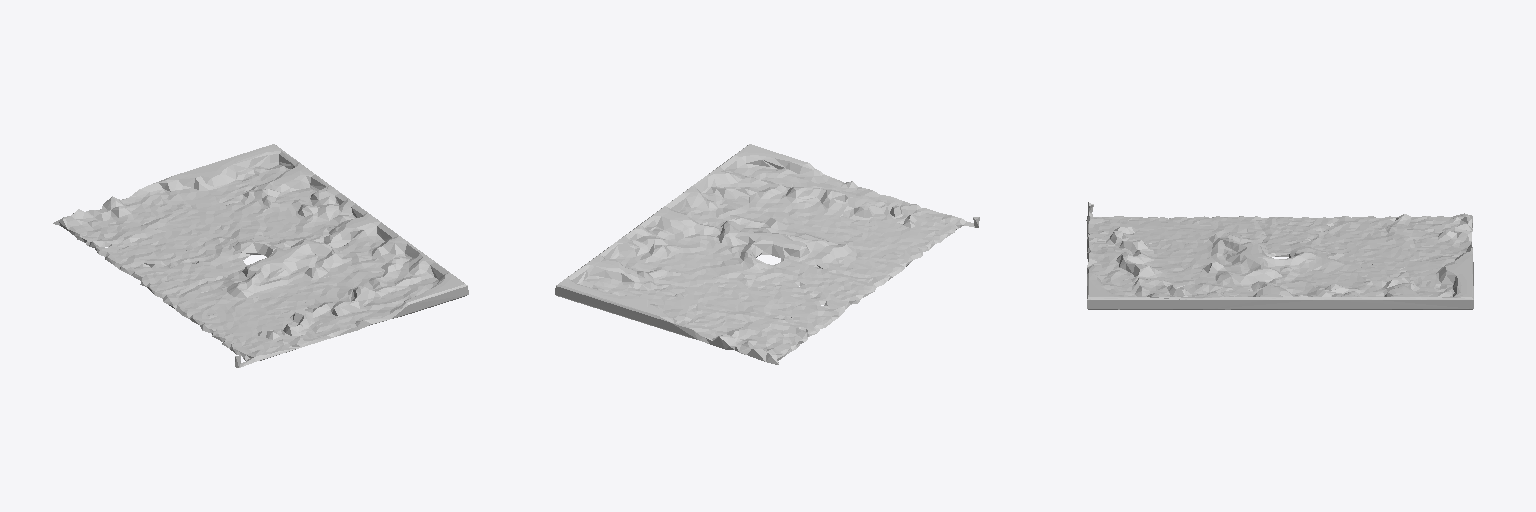
3 renders of one model, left to right at view 1: azimuth 30°, elevation 25°; view 2: azimuth 150°, elevation 25°; view 3: azimuth 270°, elevation 25°, orthographic.
Parts seen in each view (by area): view 1: Liquid_Domain; view 2: Liquid_Domain; view 3: Liquid_Domain.
Boxes of the visible parts, <box> form: Liquid_Domain: <box>53,144,468,367</box>; Liquid_Domain: <box>555,144,979,364</box>; Liquid_Domain: <box>1086,202,1473,309</box>.
Size of the model in its own units: 116 by 13.66 by 168.